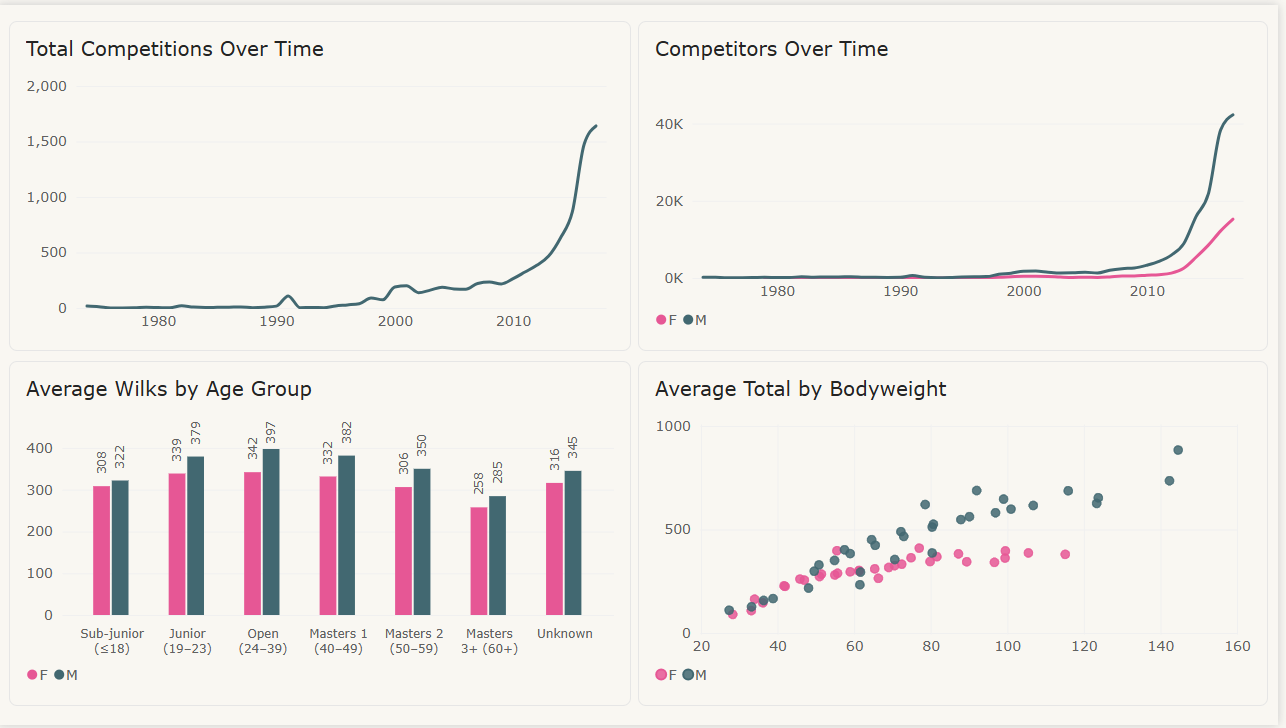

The dashboard page shown, as its layout file describes it:
{"tool":"powerbi","page":{"name":"Powerlifting Evolution","canvas":[1280,720],"ordinal":1},"visuals":[{"type":"lineChart","title":"Total Competitions Over Time","fields":{"Category":["meets.Year"],"Y":["meets.Competitions"]},"box":[11,16,622,330],"z":0},{"type":"lineChart","title":"Competitors Over Time","fields":{"Category":["meets.Year"],"Series":["openpowerlifting.Sex"],"Y":["openpowerlifting.Competitors"]},"box":[640,16,630,330],"z":1000},{"type":"scatterChart","title":"Average Total by Bodyweight","fields":{"Category":["openpowerlifting.WeightClassKg"],"Series":["openpowerlifting.Sex"],"X":["Avg(openpowerlifting.Bodyweight (kg))"],"Y":["openpowerlifting.Average Total"]},"box":[640,356,630,345],"z":2000},{"type":"clusteredColumnChart","title":"Average Wilks by Age Group","fields":{"Category":["openpowerlifting.Age Group"],"Series":["openpowerlifting.Sex"],"Y":["openpowerlifting.Average Wilks"]},"box":[11,356,622,345],"z":3000}]}

Visuals, with their boxes in screenshot pixels (x1, y1, x2, y2), scaled from the page's 1280x720 canvas onto the 1286x728 screenshot:
"Total Competitions Over Time" lineChart: select_region(11, 16, 636, 350)
"Competitors Over Time" lineChart: select_region(643, 16, 1276, 350)
"Average Total by Bodyweight" scatterChart: select_region(643, 360, 1276, 709)
"Average Wilks by Age Group" clusteredColumnChart: select_region(11, 360, 636, 709)
